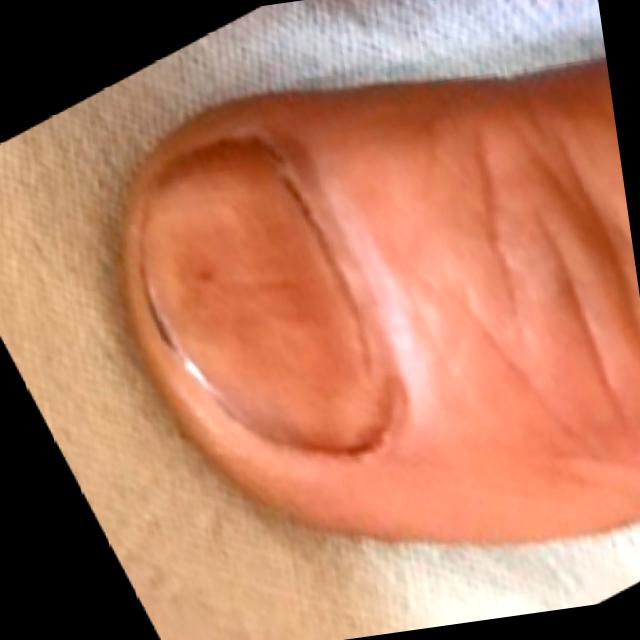Nail: (140, 128, 384, 441)
